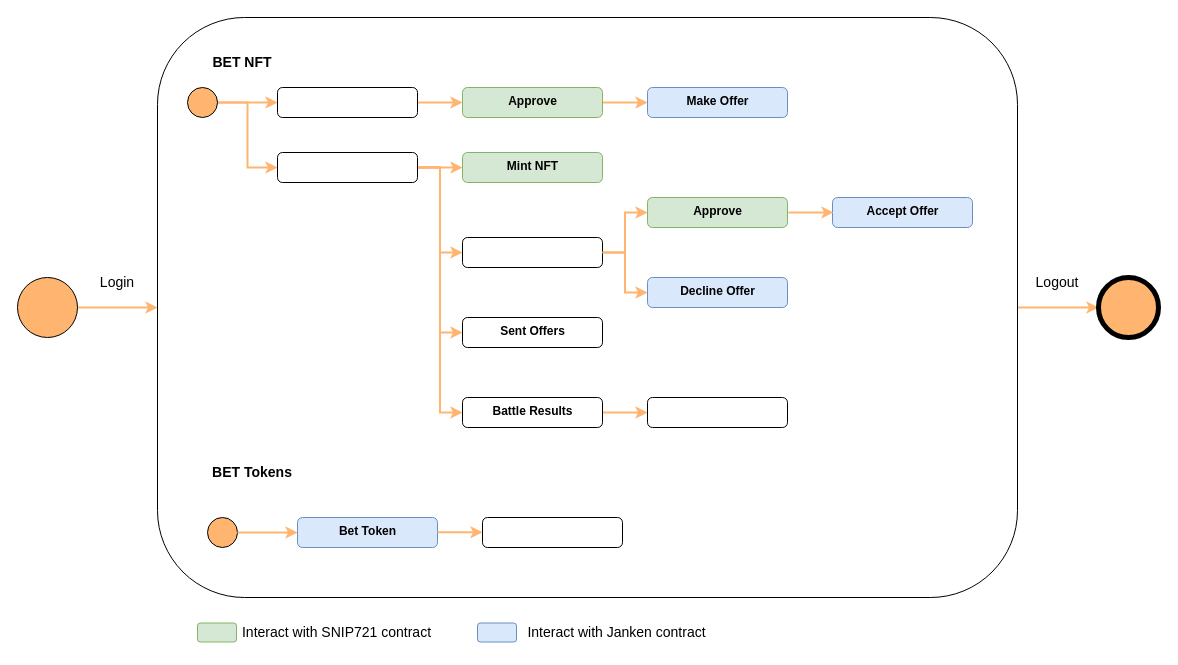
This 1178x665 diagram has some shape labels left out. Here are the shapes that lost their labels. From the top down, the box of each, then its label:
(276, 86, 418, 118): Search NFTs
(276, 152, 418, 182): My Page
(462, 236, 602, 268): Received Offers
(646, 396, 788, 428): Hands
(482, 516, 622, 548): Check Result
